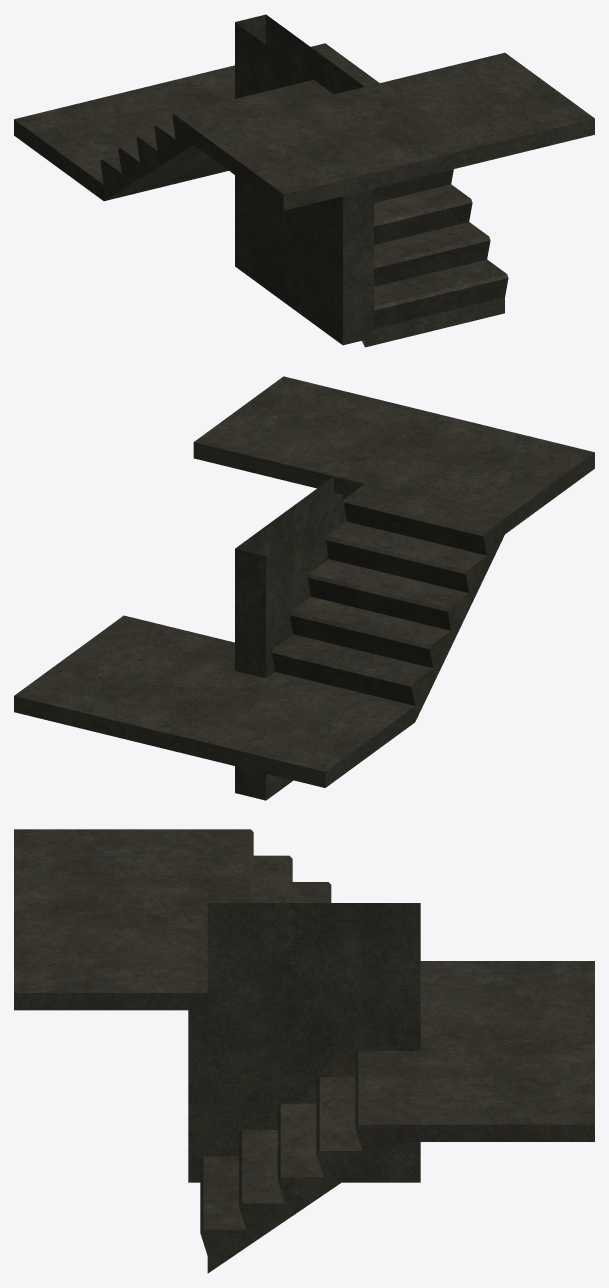
The model's file is stairs_mp_1.obj.
3 views of the same model, one above another, from view 1: azimuth 30°, elevation 25°; view 2: azimuth 150°, elevation 25°; view 3: azimuth 270°, elevation 25° (orthographic). The views are drawn at different scales.
Visible parts, largest first — view 1: stairs_mp_1; view 2: stairs_mp_1; view 3: stairs_mp_1.
Part boxes in pixels (box(x1,y1,x2,y2)): stairs_mp_1: box(14, 14, 594, 347); stairs_mp_1: box(14, 376, 594, 800); stairs_mp_1: box(14, 829, 594, 1273).
Bounding box in the file's own units: 4 × 3.2 × 6.
